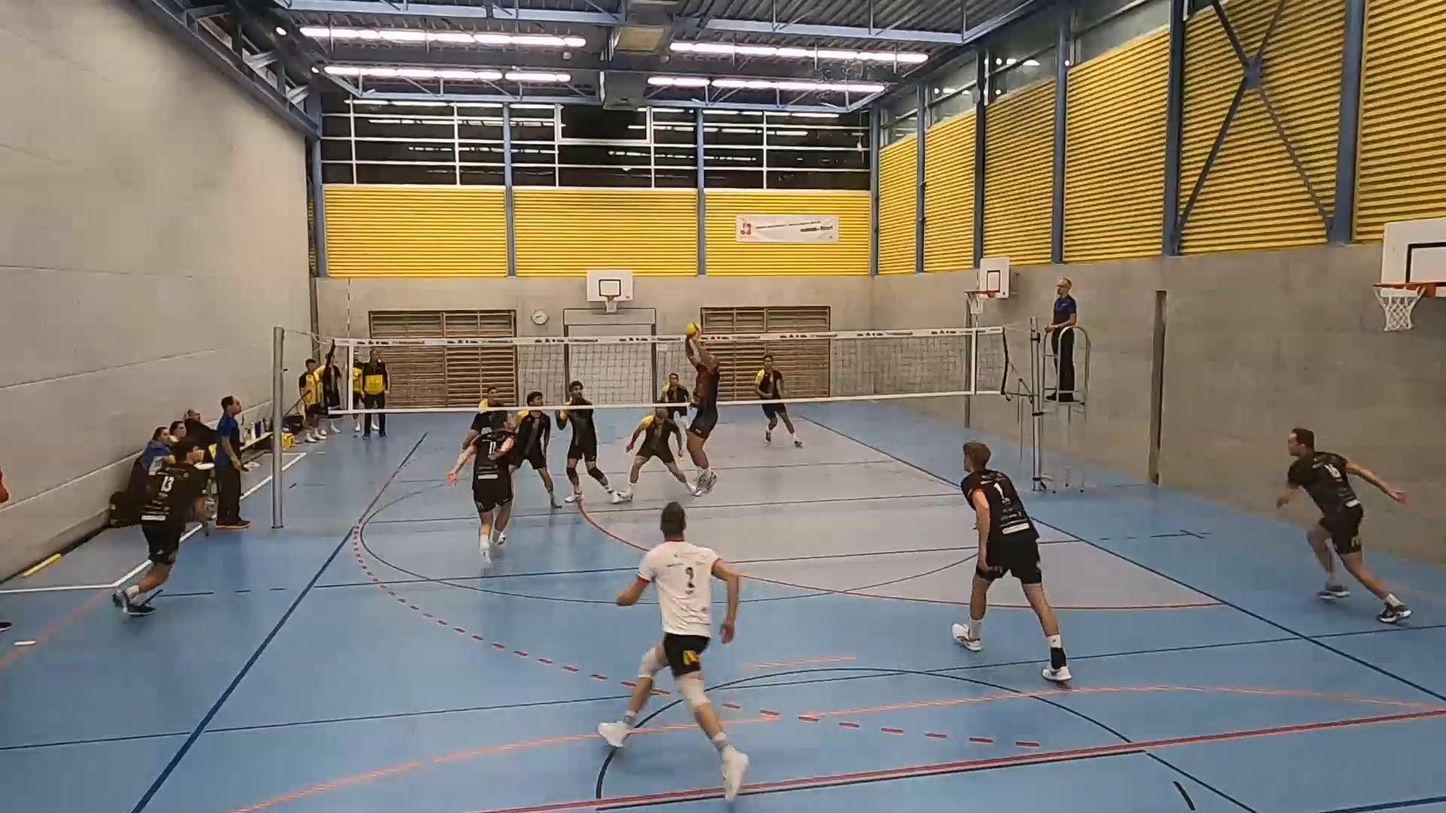alzata: (680, 337, 726, 490)
